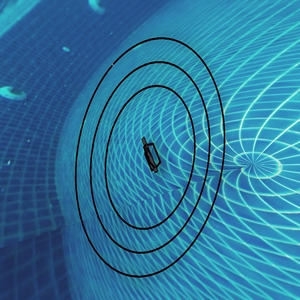circle: (65, 48, 230, 290)
